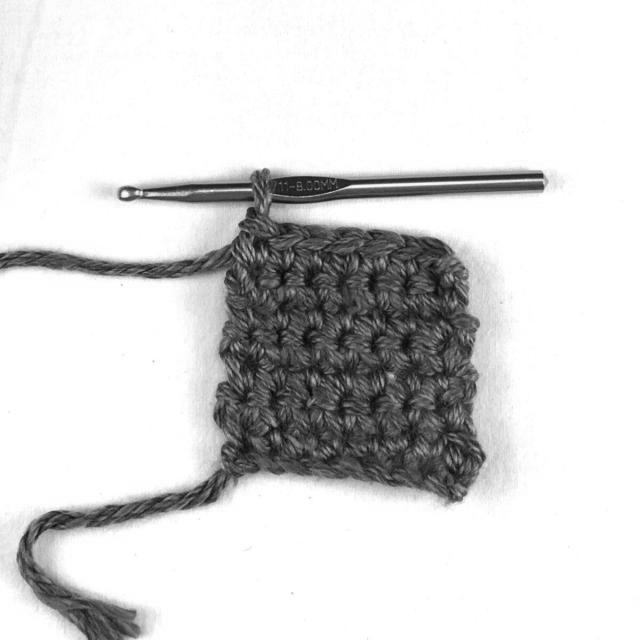ch: (245, 452, 287, 477), (421, 474, 457, 502), (303, 460, 349, 481), (335, 458, 375, 481), (218, 456, 256, 474), (365, 464, 394, 487), (389, 468, 424, 487), (278, 456, 309, 476)
sc: (323, 226, 372, 285), (235, 215, 281, 274), (296, 226, 341, 282), (440, 377, 477, 440), (441, 433, 483, 488), (359, 229, 405, 277), (372, 380, 414, 432), (409, 379, 447, 434), (344, 314, 380, 372), (269, 224, 312, 271), (309, 379, 344, 435), (402, 426, 448, 465), (275, 387, 312, 435), (241, 381, 278, 429), (343, 266, 380, 313), (342, 381, 376, 432), (406, 266, 442, 314), (388, 235, 426, 280), (217, 318, 254, 364), (410, 323, 443, 374), (225, 276, 256, 330), (282, 311, 311, 366), (222, 353, 256, 398), (250, 317, 284, 362), (313, 315, 344, 364), (221, 412, 253, 459), (253, 261, 284, 309), (376, 322, 409, 367), (210, 384, 242, 429), (440, 270, 470, 318), (443, 324, 473, 371), (287, 354, 322, 394), (314, 263, 344, 308), (255, 353, 286, 396), (417, 303, 452, 341), (418, 237, 453, 275), (354, 296, 385, 337), (321, 353, 352, 393), (354, 357, 384, 397), (344, 428, 379, 462), (385, 360, 420, 394), (383, 305, 417, 340), (283, 257, 310, 300), (259, 296, 291, 332), (375, 276, 406, 313), (323, 301, 352, 340), (314, 427, 346, 461), (379, 424, 410, 459), (282, 425, 315, 457), (250, 422, 282, 454), (286, 295, 314, 330)
